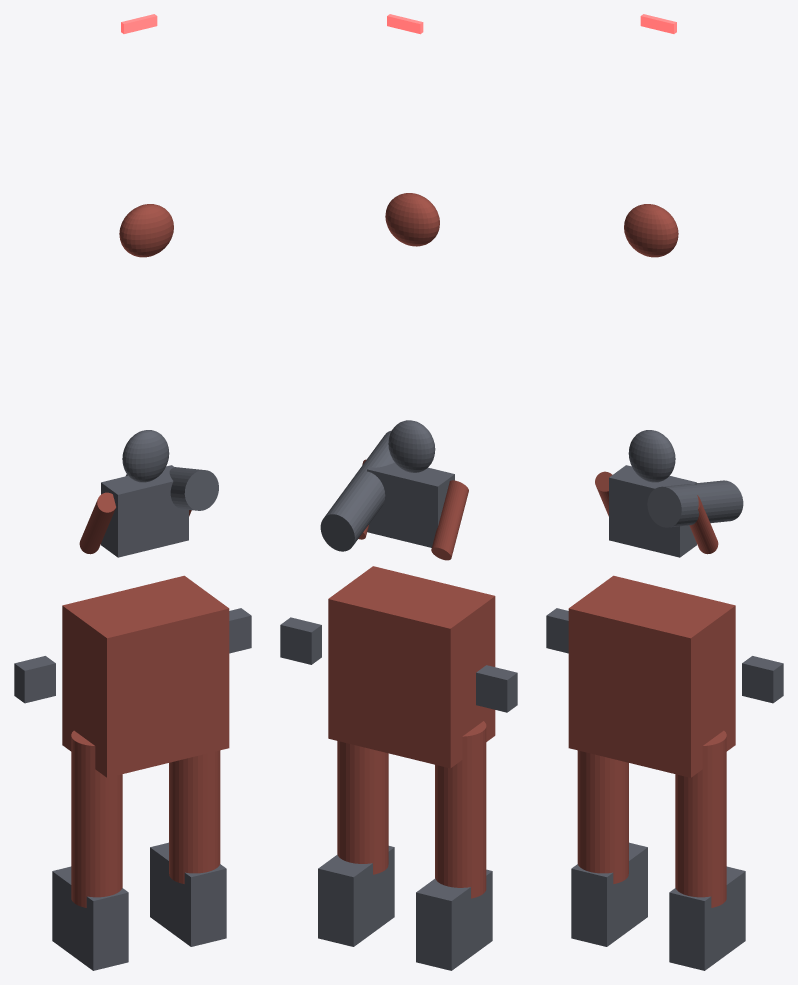
Rendered from SU_ZapalGrenadier_LOD0.glb.
3 renders of one model, left to right at view 1: azimuth 30°, elevation 25°; view 2: azimuth 150°, elevation 25°; view 3: azimuth 330°, elevation 25°, orthographic.
Parts seen in each view (by area): view 1: Cube.004, Cylinder, Cylinder.001, Cube, Cube.001, Cube.005, Sphere.001, Sphere, Cylinder.004, Cube.002, Cylinder.002, Cube.003; view 2: Cube.004, Cylinder, Cylinder.001, Cube, Cube.001, Cube.005, Cylinder.004, Sphere.001, Sphere, Cube.002, Cube.003, Cylinder.002; view 3: Cube.004, Cylinder.001, Cylinder, Cube.001, Cube, Cube.005, Cylinder.004, Sphere.001, Sphere, Cube.003, Cube.002, Cylinder.003.
Boxes of the visible parts, box(x1,y1,x2,y2) form: Cube.004: box(62, 575, 229, 777); Cylinder: box(71, 730, 122, 907); Cylinder.001: box(169, 750, 220, 883); Cube: box(52, 866, 128, 970); Cube.001: box(150, 842, 226, 946); Cube.005: box(101, 465, 188, 557); Sphere.001: box(119, 204, 173, 257); Sphere: box(122, 430, 169, 482); Cylinder.004: box(126, 467, 218, 510); Cube.002: box(14, 656, 55, 703); Cylinder.002: box(79, 492, 116, 554); Cube.003: box(229, 608, 251, 653); Cube.004: box(328, 566, 495, 768); Cylinder: box(435, 721, 486, 898); Cylinder.001: box(337, 741, 388, 874); Cube: box(416, 869, 492, 970); Cube.001: box(318, 846, 394, 946); Cube.005: box(367, 462, 454, 547); Cylinder.004: box(320, 430, 394, 551); Sphere.001: box(385, 193, 439, 246); Sphere: box(388, 420, 435, 472); Cube.002: box(476, 665, 517, 712); Cube.003: box(280, 617, 321, 664); Cylinder.002: box(431, 480, 468, 560); Cube.004: box(568, 575, 735, 777); Cylinder.001: box(675, 730, 726, 907); Cylinder: box(577, 750, 628, 883); Cube.001: box(669, 866, 745, 970); Cube: box(571, 842, 647, 946); Cube.005: box(609, 465, 696, 557); Cylinder.004: box(647, 480, 743, 527); Sphere.001: box(624, 204, 678, 257); Sphere: box(628, 430, 675, 482); Cube.003: box(742, 656, 783, 703); Cube.002: box(546, 608, 568, 653); Cylinder.003: box(689, 495, 718, 554).
Size of what is drawn, in the model's own units: 1.02 by 3.96 by 0.4997.
